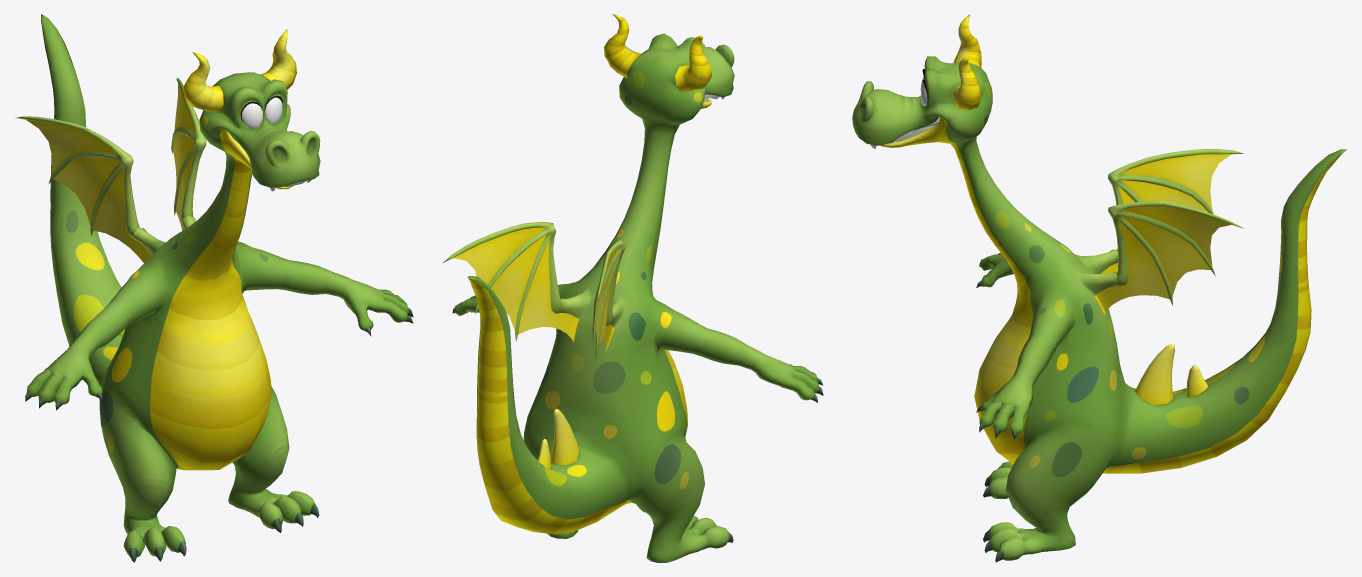
The model's file is Swish_LowPoly.glb.
3 renders of one model, left to right at view 1: azimuth 30°, elevation 25°; view 2: azimuth 150°, elevation 25°; view 3: azimuth 270°, elevation 25°, orthographic. The views are drawn at different scales.
Visible parts, largest first — view 1: Body, Eyes; view 2: Body; view 3: Body.
Part boxes in pixels (x1=…): Body: x1=15, y1=14, x2=413, y2=562; Eyes: x1=241, y1=97, x2=282, y2=128; Body: x1=443, y1=14, x2=823, y2=562; Body: x1=852, y1=14, x2=1346, y2=562.
Bounding box in the file's own units: 2.1 × 2.67 × 2.47.
Materials: 2 (1 with a texture image).
